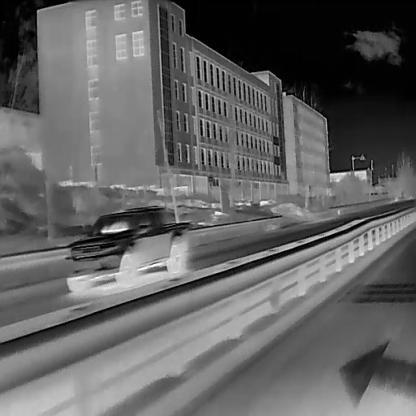car: (62, 203, 193, 298)
